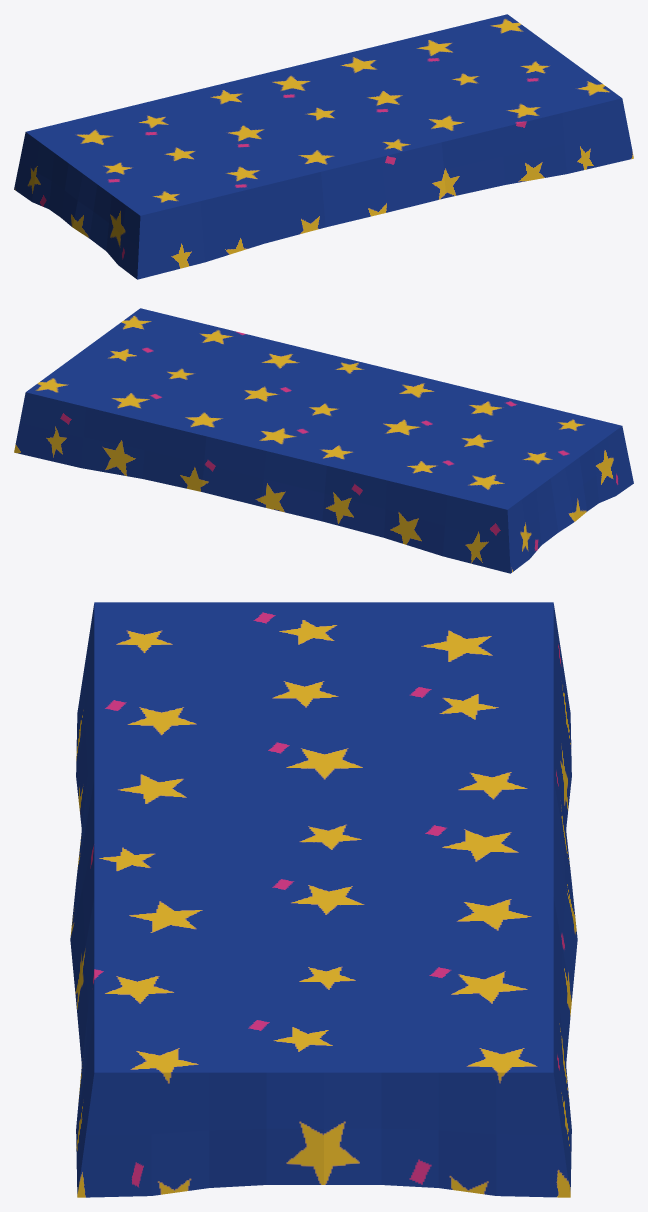
File: party_cloth_rect_stars.glb
The picture shows the model from 3 angles, top to bottom: view 1: azimuth 30°, elevation 25°; view 2: azimuth 150°, elevation 25°; view 3: azimuth 270°, elevation 25°; orthographic projection. The views are drawn at different scales.
Parts seen in each view (by area): view 1: party_cloth_rect_stars; view 2: party_cloth_rect_stars; view 3: party_cloth_rect_stars.
Part boxes in pixels (x1=…): party_cloth_rect_stars: x1=14, y1=14, x2=633, y2=279; party_cloth_rect_stars: x1=14, y1=308, x2=633, y2=573; party_cloth_rect_stars: x1=70, y1=602, x2=577, y2=1197.
Bounding box in the file's own units: 2.22 × 0.2493 × 0.97.
1 material, 1 textured.
